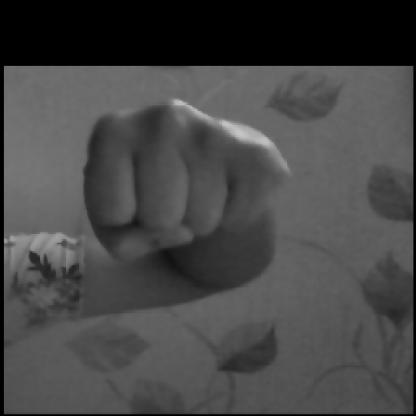fist: (52, 94, 304, 364)
